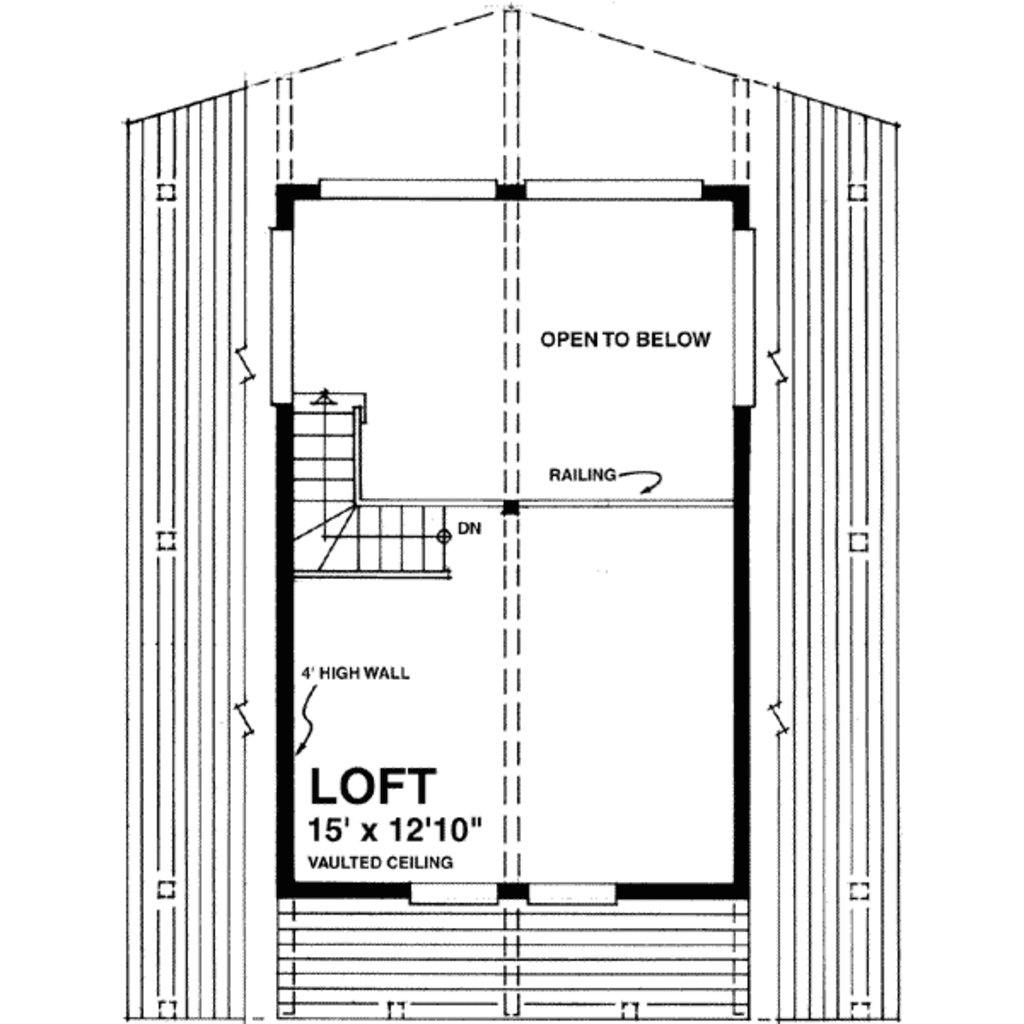stairs: (283, 386, 472, 593)
window: (268, 222, 298, 407), (731, 213, 758, 416), (522, 173, 716, 201), (317, 175, 507, 201), (406, 875, 508, 915), (522, 878, 621, 910)
